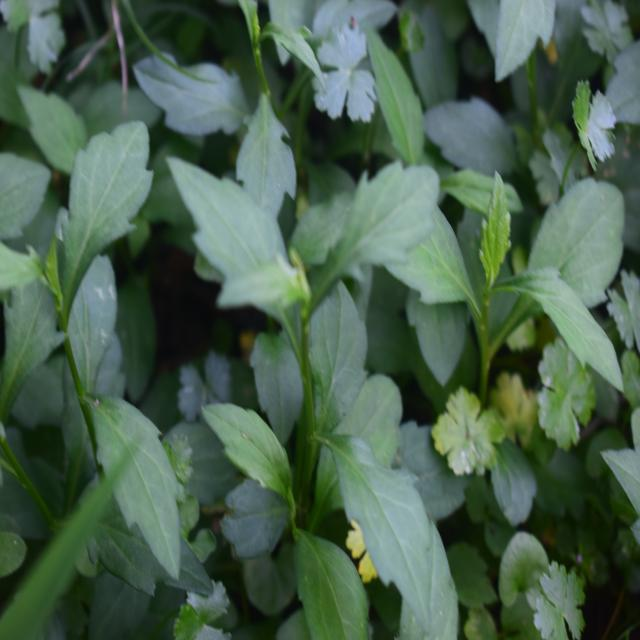Indian aster: (172, 123, 412, 545)
